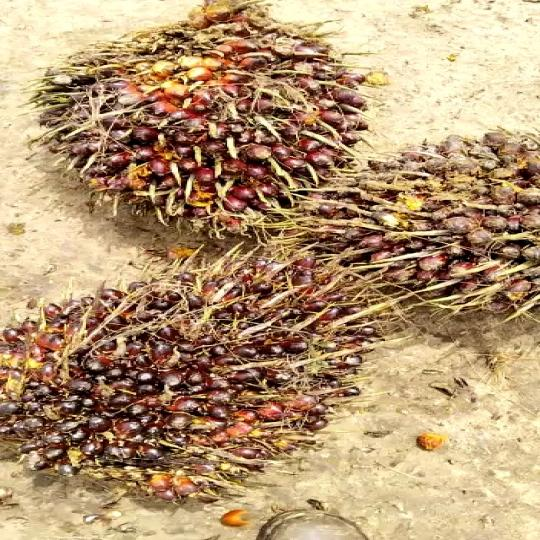kurang masak: (0, 243, 374, 511), (20, 0, 393, 241), (301, 124, 540, 325)
